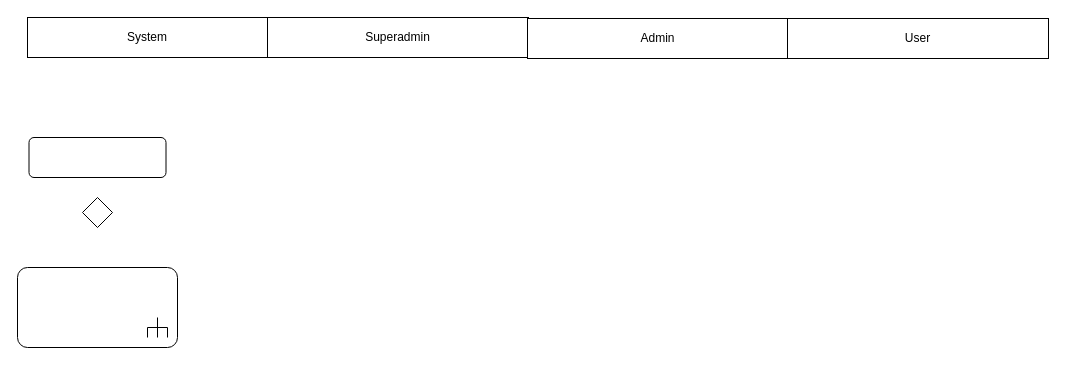
The diagram is 1066 pixels wide and 365 high, and some of its shapes have lost their labels. Here are the shapes that lost their labels. From the top down, the box of each, then its label:
(28, 136, 166, 178): Render Loan Status Overview
(16, 266, 178, 348): Global Navigation
